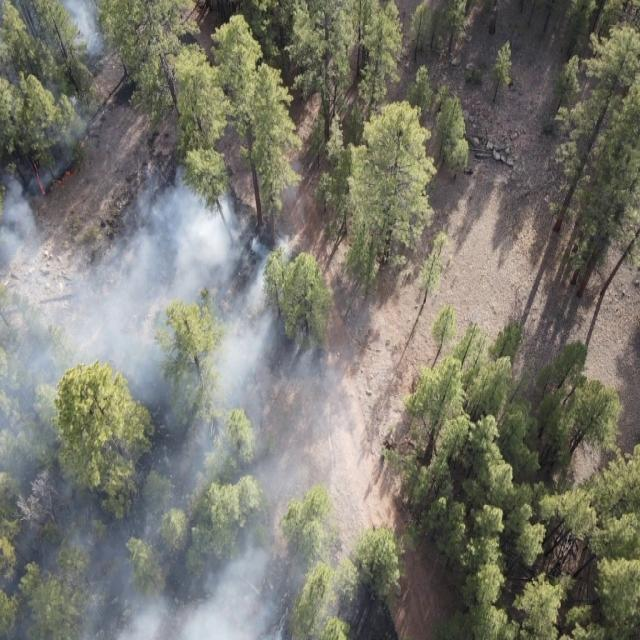fire: (29, 148, 78, 202)
smoke: (1, 0, 159, 640), (156, 160, 362, 640)
